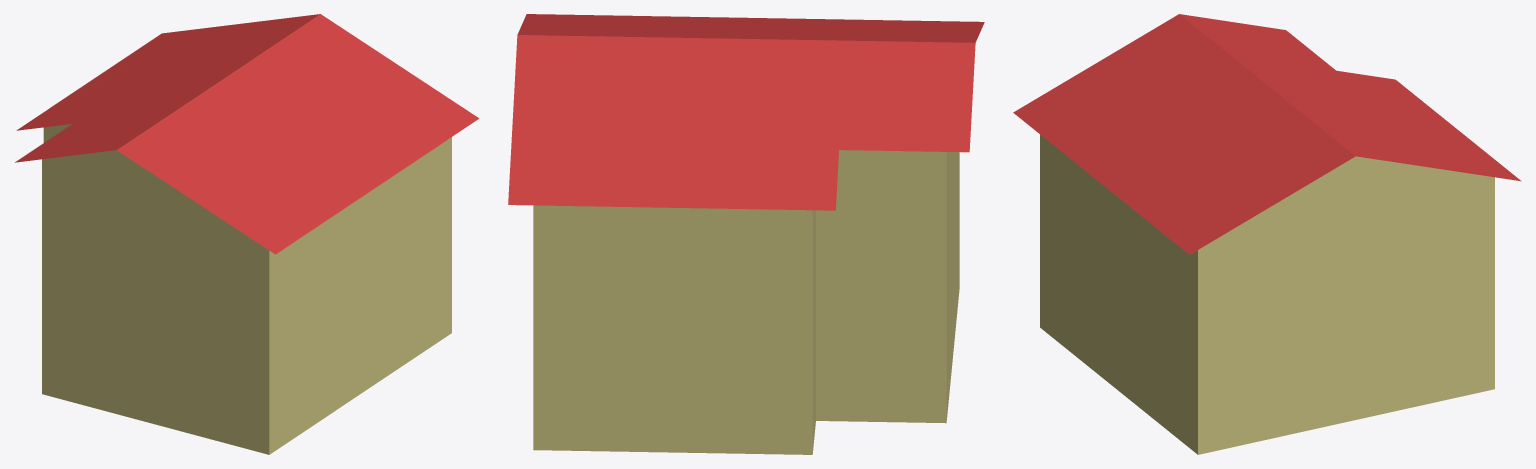
3 renders of one model, left to right at view 1: azimuth 30°, elevation 25°; view 2: azimuth 150°, elevation 25°; view 3: azimuth 270°, elevation 25°, orthographic. The views are drawn at different scales.
Parts seen in each view (by area): view 1: group_5, group_3, group_4; view 2: group_5, group_3, group_4; view 3: group_5, group_3, group_4.
Part boxes in pixels (box(x1,y1,x2,y2)): group_5: box(42, 124, 451, 454); group_3: box(15, 14, 479, 254); group_4: box(18, 14, 424, 254); group_5: box(533, 150, 959, 454); group_3: box(516, 14, 978, 210); group_4: box(508, 19, 984, 210); group_5: box(1040, 134, 1494, 454); group_3: box(1014, 14, 1494, 254); group_4: box(1013, 14, 1521, 221).
Size of the model in its own units: 18.01 by 19.1 by 11.32.
